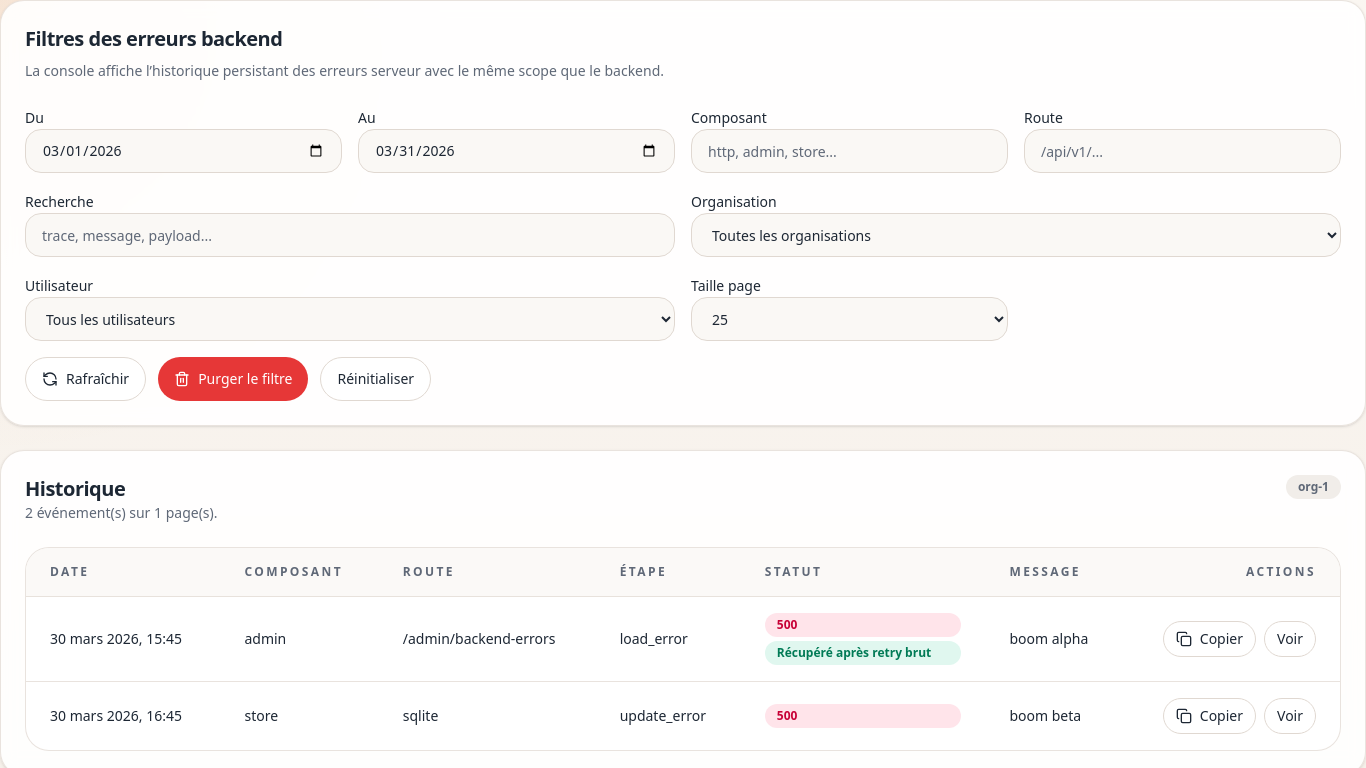
Test case: BackendErrorsPage › copies the selected backend error detail from the modal
Expected: the text "2 événement(s) sur 1 page(s)." is shown, [25, 503, 218, 523]
Click the 1st button "Voir": {"x": 1290, "y": 639} [1264, 621, 1316, 657]
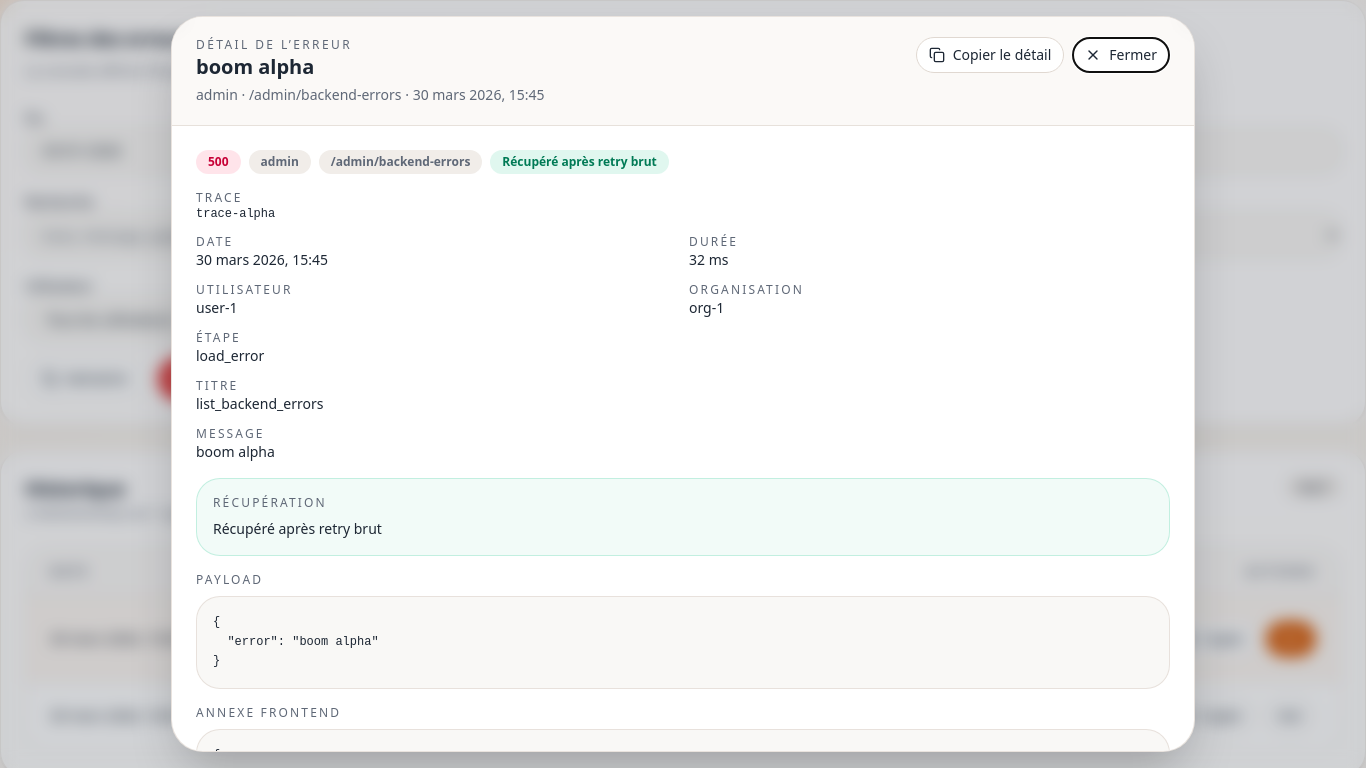
Click the button "Copier le détail": {"x": 990, "y": 55} [916, 37, 1064, 73]
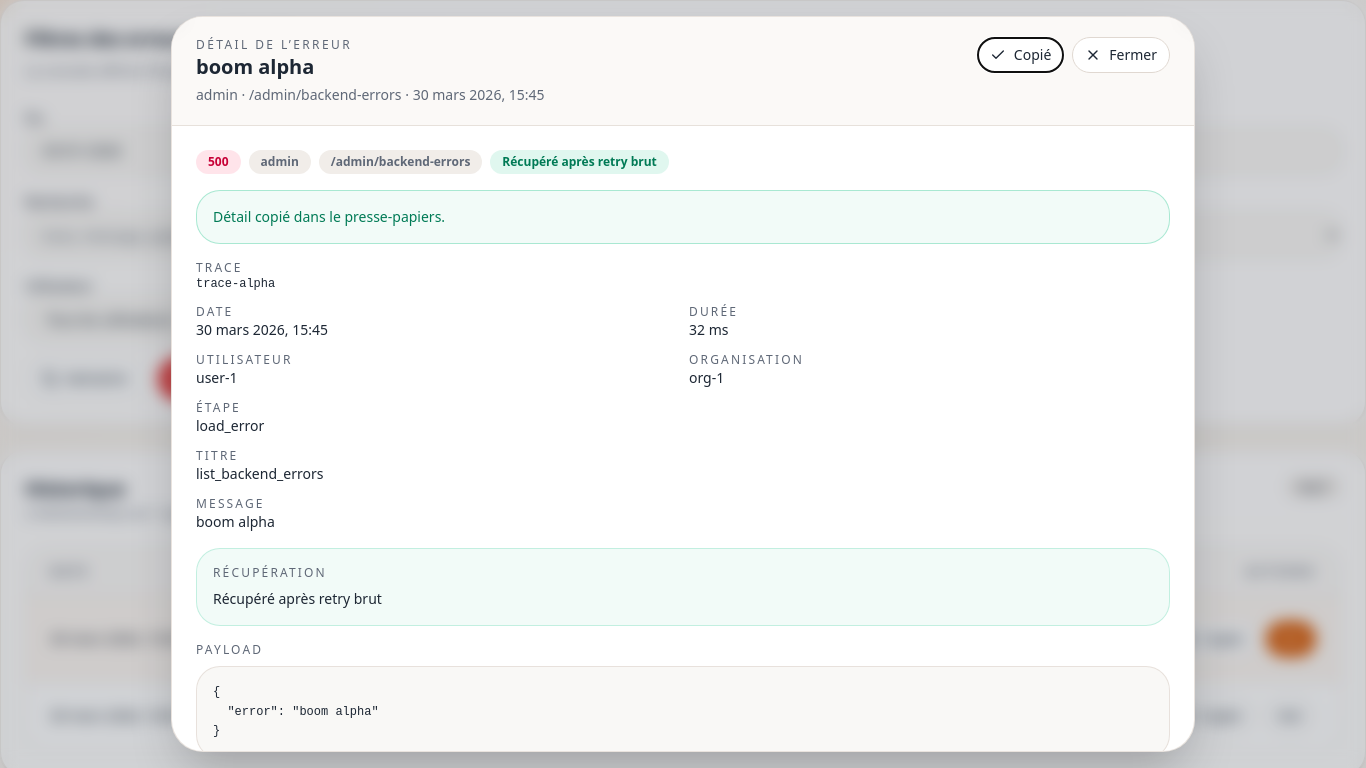
Expected: the text "Détail copié dans le presse-papiers." is shown, [196, 190, 1170, 244]
